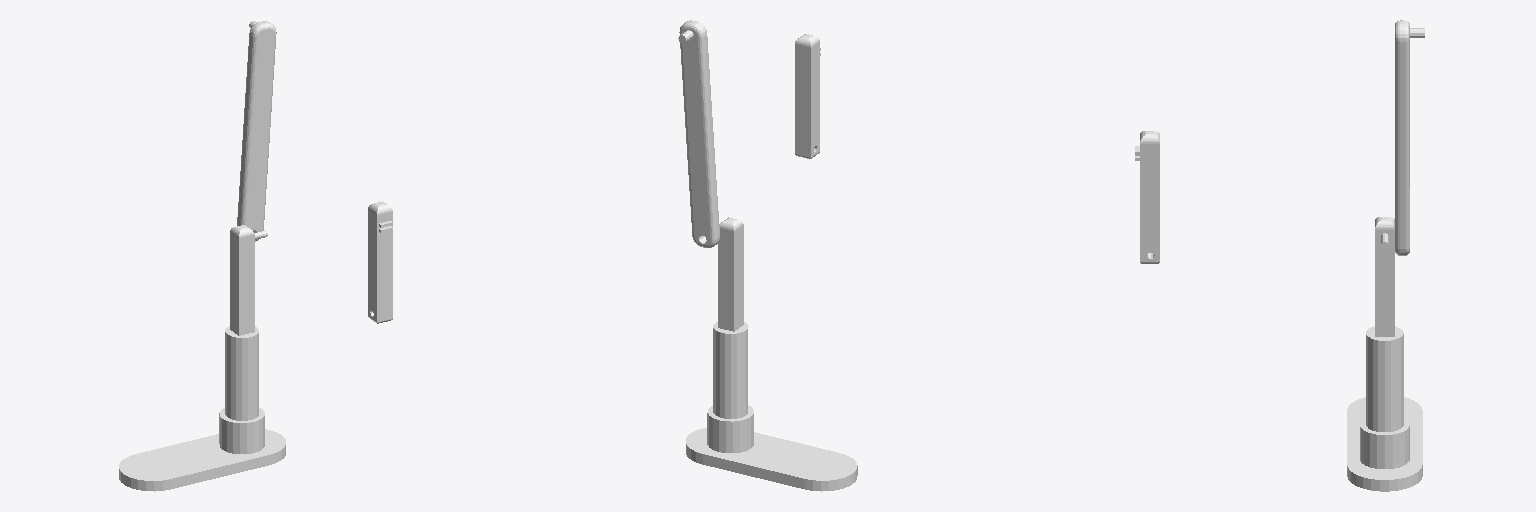
The robot description file, URDF, robot "arm":
<?xml version="1.0" encoding="utf-8"?>
<!-- This URDF was automatically created by SolidWorks to URDF Exporter! Originally created by [author] ([email redacted]) 
     Commit Version: 1.6.0-1-g15f4949  Build Version: 1.6.7594.29634
     For more information, please see http://wiki.ros.org/sw_urdf_exporter -->
<robot
  name="arm">
    
    <link name="world"/>

  <joint name="fixed" type="fixed">
    <parent link="world"/>
    <child link="man_base"/>
  </joint>
  
  <link
    name="man_base">
    <inertial>
      <origin
        xyz="0.062122 2.7756E-17 0.040868"
        rpy="0 0 0" />
      <mass
        value="2.5319" />
      <inertia
        ixx="0.019316"
        ixy="-1.0584E-18"
        ixz="-0.0073609"
        iyy="0.039139"
        iyz="-5.4676E-20"
        izz="0.025853" />
    </inertial>
    <visual>
      <origin
        xyz="0 0 0"
        rpy="0 0 0" />
      <geometry>
        <mesh
          filename="package://manipulator_v1/manipulator_description/arm/meshes/man_base.STL" />
      </geometry>
      <material
        name="">
        <color
          rgba="0.96078 0.96078 0.96471 1" />
      </material>
    </visual>
    <collision>
      <origin
        xyz="0 0 0"
        rpy="0 0 0" />
      <geometry>
        <mesh
          filename="package://manipulator_v1/manipulator_description/arm/meshes/man_base.STL" />
      </geometry>
    </collision>
  </link>
  
  <link
    name="lin_link">
    <inertial>
      <origin
        xyz="0.00058824 6.8403E-10 0.14981"
        rpy="0 0 0" />
      <mass
        value="0.48064" />
      <inertia
        ixx="0.0036268"
        ixy="-1.1217E-12"
        ixz="-3.3983E-05"
        iyy="0.0036388"
        iyz="-4.0231E-11"
        izz="0.00013762" />
    </inertial>
    <visual>
      <origin
        xyz="0 0 0"
        rpy="0 0 0" />
      <geometry>
        <mesh
          filename="package://manipulator_v1/manipulator_description/arm/meshes/lin_link.STL" />
      </geometry>
      <material
        name="">
        <color
          rgba="0.96078 0.96078 0.96471 1" />
      </material>
    </visual>
    <collision>
      <origin
        xyz="0 0 0"
        rpy="0 0 0" />
      <geometry>
        <mesh
          filename="package://manipulator_v1/manipulator_description/arm/meshes/lin_link.STL" />
      </geometry>
    </collision>
  </link>

  <joint
        name="base_joint"
        type="prismatic">
        <origin
        xyz="0.1166 0 0.225"
        rpy="0 0 0" />
        <parent
        link="man_base" />
        <child
        link="lin_link" />
        <axis
        xyz="0 0 1" />
        <limit
        lower="0"
        upper="0.15"
        effort="500"
        velocity="0.1" />
    </joint>
  
  <link
    name="mid_link">
    <inertial>
      <origin
        xyz="0.00034363 -0.26293 -4.3005E-05"
        rpy="0 0 0" />
      <mass
        value="0.82251" />
      <inertia
        ixx="0.01817"
        ixy="6.2324E-05"
        ixz="-1.2149E-08"
        iyy="0.00022901"
        iyz="8.5848E-06"
        izz="0.018181" />
    </inertial>
    <visual>
      <origin
        xyz="0 0 0"
        rpy="0 0 0" />
      <geometry>
        <mesh
          filename="package://manipulator_v1/manipulator_description/arm/meshes/mid_link.STL" />
      </geometry>
      <material
        name="">
        <color
          rgba="0.96078 0.96078 0.96471 1" />
      </material>
    </visual>
    <collision>
      <origin
        xyz="0 0 0"
        rpy="0 0 0" />
      <geometry>
        <mesh
          filename="package://manipulator_v1/manipulator_description/arm/meshes/mid_link.STL" />
      </geometry>
    </collision>
  </link>
  <joint
    name="rev_joint1"
    type="revolute">
    <origin
      xyz="0.04 0.02 0.265"
      rpy="0 0 0" />
    <parent
      link="lin_link" />
    <child
      link="mid_link" />
    <axis
      xyz="1 0 0" />
    <limit
      lower="-2.267"
      upper="0.697"
      effort="200"
      velocity="0.1" />
  </joint>
  <link
    name="end_link">
    <inertial>
      <origin
        xyz="-7.0543E-08 -0.00028367 0.14147"
        rpy="0 0 0" />
      <mass
        value="0.43723" />
      <inertia
        ixx="0.0027717"
        ixy="-1.4807E-11"
        ixz="-1.5074E-09"
        iyy="0.0027684"
        iyz="9.0656E-06"
        izz="0.00011819" />
    </inertial>
    <visual>
      <origin
        xyz="0 0 0"
        rpy="0 0 0" />
      <geometry>
        <mesh
          filename="package://manipulator_v1/manipulator_description/arm/meshes/end_link.STL" />
      </geometry>
      <material
        name="">
        <color
          rgba="0.96078 0.96078 0.96471 1" />
      </material>
    </visual>
    <collision>
      <origin
        xyz="0 0 0"
        rpy="0 0 0" />
      <geometry>
        <mesh
          filename="package://manipulator_v1/manipulator_description/arm/meshes/end_link.STL" />
      </geometry>
    </collision>
  </link>
  <joint
    name="rev_joint2"
    type="revolute">
    <origin
      xyz="0.04 -0.485 -0.02"
      rpy="0 0 0" />
    <parent
      link="mid_link" />
    <child
      link="end_link" />
    <axis
      xyz="1 0 0" />
    <limit
      lower="0"
      upper="6.28"
      effort="100"
      velocity="0.1" />
  </joint>
  
   <transmission name="lin_tran_base">
      <type>transmission_interface/SimpleTransmission</type>
      <joint name="base_joint">
            <hardwareInterface>hardware_interface/PositionJointInterface</hardwareInterface>
      </joint>      
    <actuator name="lin_actuator">
        <mechanicalReduction>1</mechanicalReduction>
    </actuator>
  </transmission>
  
    <transmission name="lin_tran_rev1">
      <type>transmission_interface/SimpleTransmission</type>
      <joint name="rev_joint1">
            <hardwareInterface>hardware_interface/PositionJointInterface</hardwareInterface>
      </joint>      
    <actuator name="rev_actuator1">
        <mechanicalReduction>1</mechanicalReduction>
    </actuator>
  </transmission>
  
    <transmission name="lin_tran_rev2">
      <type>transmission_interface/SimpleTransmission</type>
      <joint name="rev_joint2">
            <hardwareInterface>hardware_interface/PositionJointInterface</hardwareInterface>
      </joint>      
    <actuator name="rev_actuator2">
        <mechanicalReduction>1</mechanicalReduction>
    </actuator>
  </transmission>
  
  <!-- ros_controll_plugin -->
  <gazebo>
      <plugin name="gazebo_ros_control" filename="libgazebo_ros_control.so">
      </plugin>
  </gazebo>
  
  
</robot>

--- Render facts (derived) ---
Views: 3 orthographic renders of the robot side by side, from view 1: azimuth 30°, elevation 25°; view 2: azimuth 150°, elevation 25°; view 3: azimuth 270°, elevation 25°.
Robot: arm — 5 links, 4 joints (2 revolute, 1 prismatic, 1 fixed); root link world; default pose: all joints at 0.
Visible links, largest first — view 1: man_base, mid_link, end_link, lin_link; view 2: man_base, mid_link, end_link, lin_link; view 3: man_base, mid_link, end_link, lin_link.
Boxes of the visible links, box(x1,y1,x2,y2) form: man_base: box(119, 326, 285, 491); mid_link: box(237, 21, 276, 241); end_link: box(368, 201, 392, 323); lin_link: box(230, 225, 267, 335); man_base: box(686, 322, 857, 491); mid_link: box(678, 20, 719, 247); end_link: box(795, 34, 820, 158); lin_link: box(718, 217, 743, 331); man_base: box(1347, 326, 1422, 491); mid_link: box(1395, 20, 1424, 255); end_link: box(1135, 131, 1159, 263); lin_link: box(1375, 217, 1394, 336).
Bounding box of the posed robot: 0.4016 × 0.5747 × 1.01 m (x, y, z).
4 mesh visuals loaded from 4 distinct referenced files (4 binary STL).